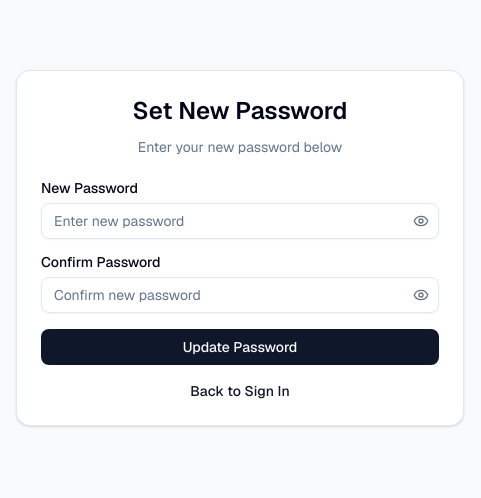
Test: ResetPasswordClient › handles password validation correctly
Test short password
Type "123" into the password field labelled "New Password" at (240, 221), box [41, 203, 439, 239]
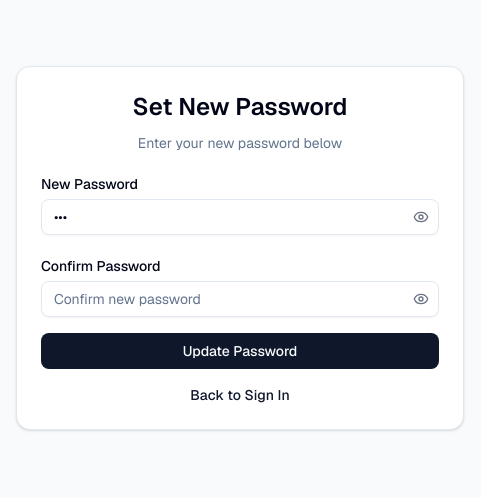
Type "123" into the password field labelled "Confirm Password" at (240, 299), box [41, 281, 439, 317]
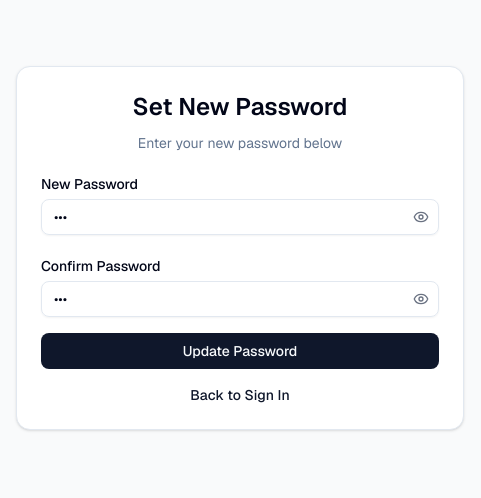
Click the button "Update Password" at (240, 351), box [41, 333, 439, 369]
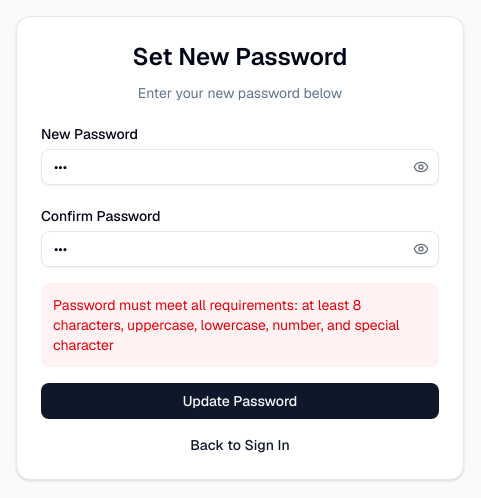
Now the text "Password must meet all requirements: at least 8 characters, uppercase, lowercase, number, and special character" is shown, box [53, 296, 400, 354]
Test mismatched passwords
Type "ValidPassword123!" into the password field labelled "New Password" at (240, 167), box [41, 149, 439, 185]
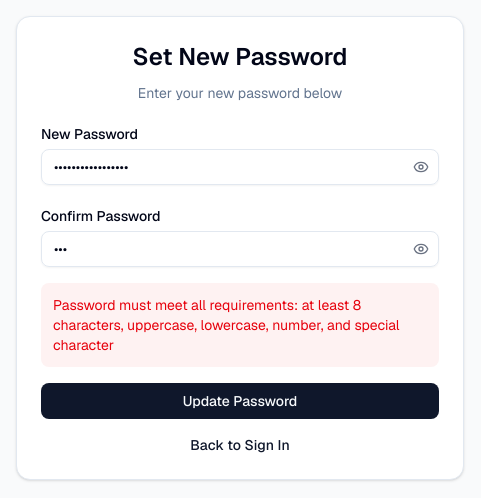
Type "DifferentPassword123!" into the password field labelled "Confirm Password" at (240, 249), box [41, 231, 439, 267]
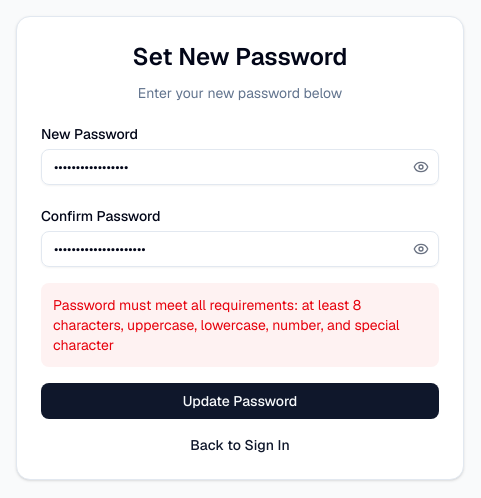
Click the button "Update Password" at (240, 401), box [41, 383, 439, 419]
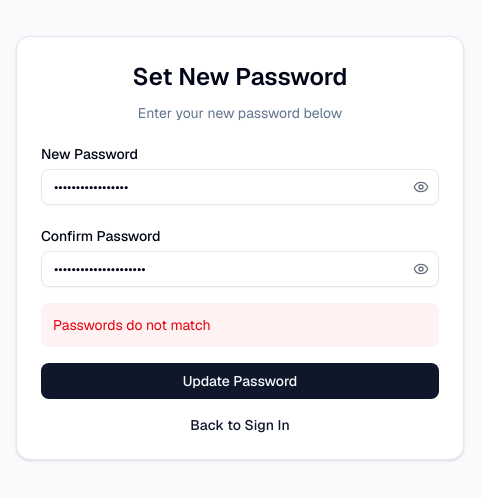
Now the text "Passwords do not match" is shown, box [41, 303, 439, 347]
